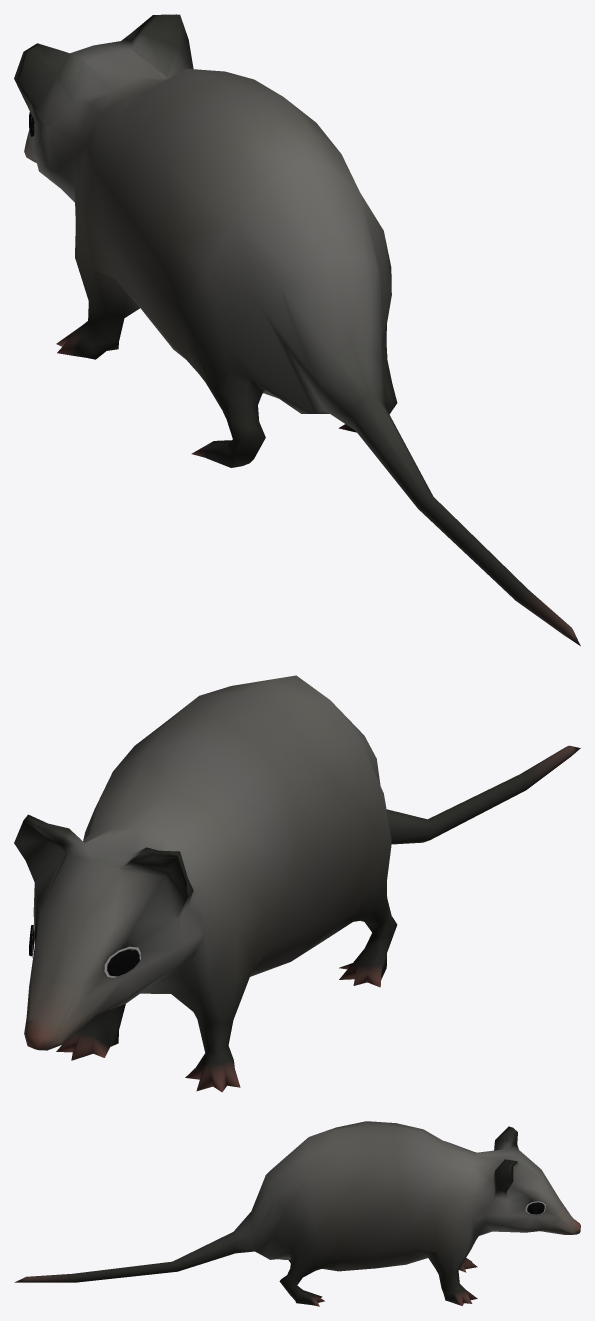
The model's file is opossum.obj.
The picture shows the model from 3 angles, top to bottom: view 1: azimuth 30°, elevation 25°; view 2: azimuth 150°, elevation 25°; view 3: azimuth 270°, elevation 25°; orthographic projection. The views are drawn at different scales.
Parts seen in each view (by area): view 1: base.144_Mesh.002; view 2: base.144_Mesh.002; view 3: base.144_Mesh.002.
Part boxes in pixels (<box>): base.144_Mesh.002: <box>14,14,580,646</box>; base.144_Mesh.002: <box>14,675,580,1092</box>; base.144_Mesh.002: <box>14,1121,580,1306</box>.
Size of the model in its own units: 0.3496 by 0.4969 by 1.62.
1 material, 1 textured.
